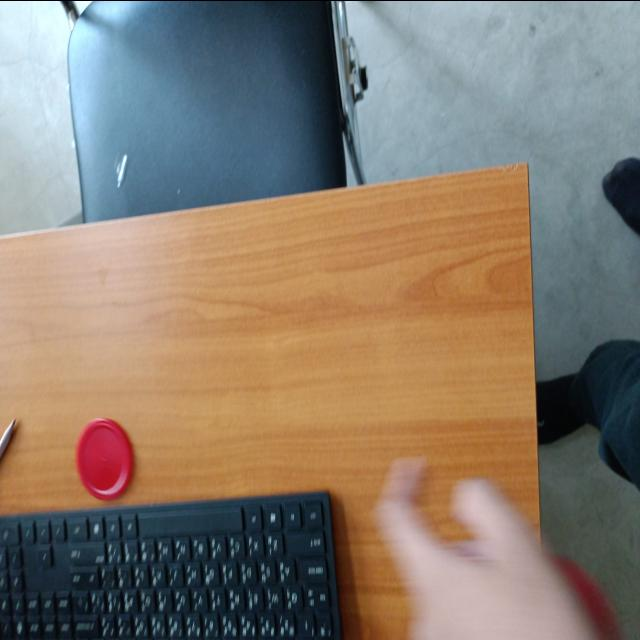chip: (72, 412, 136, 503)
